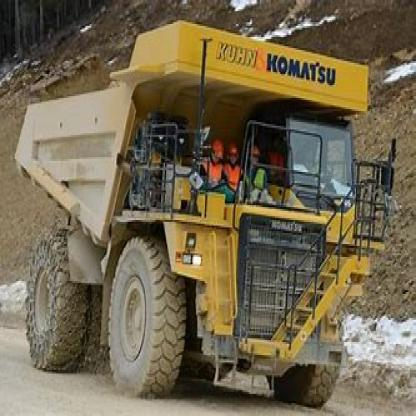dump_truck: (16, 18, 366, 394)
